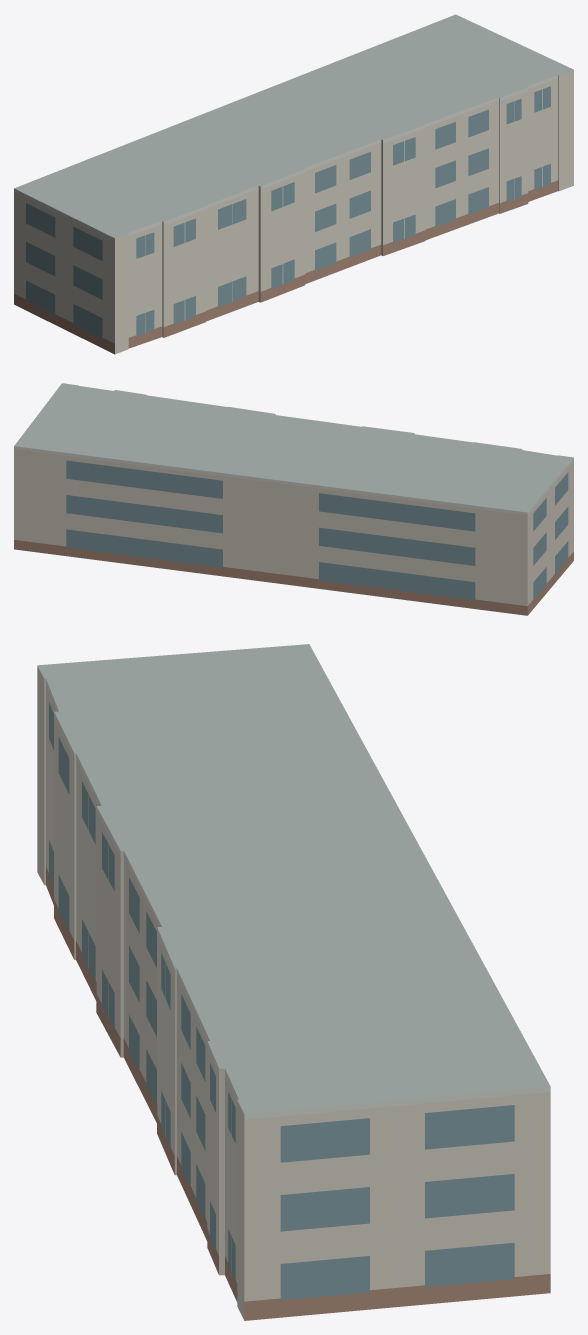
The model's file is survey-upis-32521152.glb.
3 views of the same model, one above another, from view 1: azimuth 30°, elevation 25°; view 2: azimuth 150°, elevation 25°; view 3: azimuth 270°, elevation 25° (orthographic). The views are drawn at different scales.
Parts seen in each view (by area): view 1: survey-upis-32521152.tmp; view 2: survey-upis-32521152.tmp; view 3: survey-upis-32521152.tmp.
Part boxes in pixels (left/top/right/bottom): survey-upis-32521152.tmp: left=14, top=14, right=573, bottom=354; survey-upis-32521152.tmp: left=14, top=383, right=573, bottom=615; survey-upis-32521152.tmp: left=37, top=644, right=550, bottom=1320.
Bounding box in the file's own units: 44.67 × 9.15 × 20.61.
